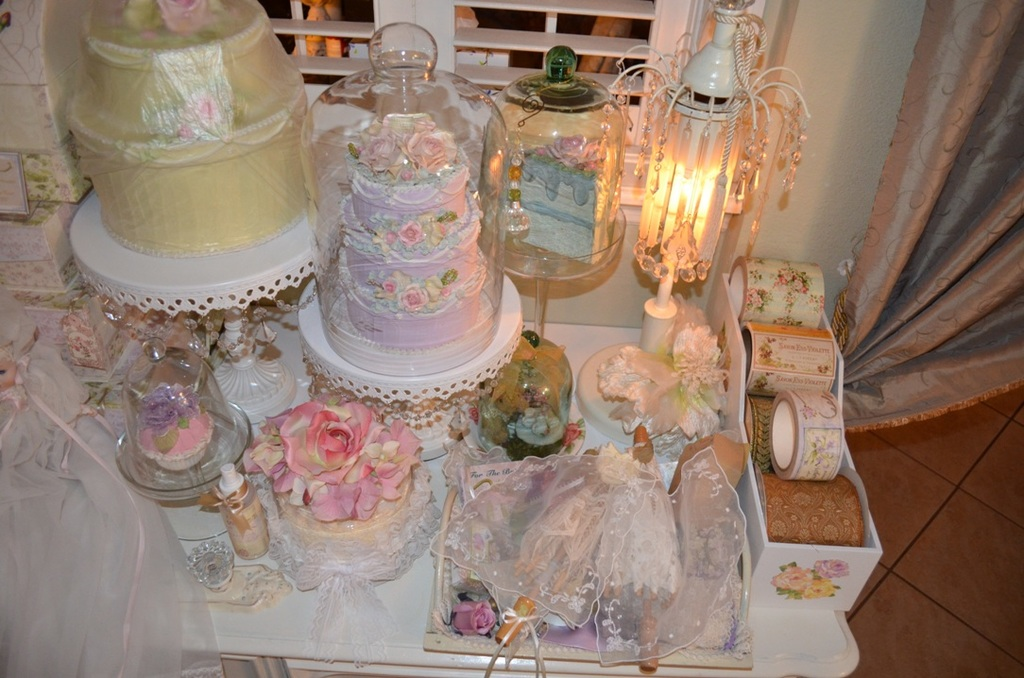cake: (74, 20, 306, 255), (339, 171, 483, 347), (278, 478, 409, 577)
